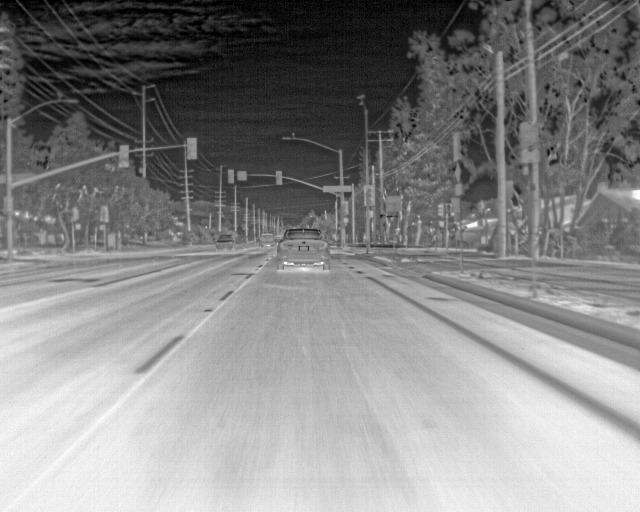car: (276, 228, 331, 270), (215, 234, 235, 251), (259, 233, 276, 247)
light: (119, 145, 129, 167), (187, 138, 197, 159), (367, 187, 373, 203), (276, 171, 282, 185), (228, 170, 234, 183), (437, 205, 442, 217), (344, 201, 348, 215), (343, 218, 349, 223)
sign: (520, 121, 538, 145), (0, 173, 35, 184), (520, 149, 539, 162), (386, 196, 401, 212), (453, 133, 461, 162), (323, 186, 352, 192), (454, 162, 461, 183), (100, 207, 109, 222), (237, 171, 247, 181), (455, 184, 461, 196)
